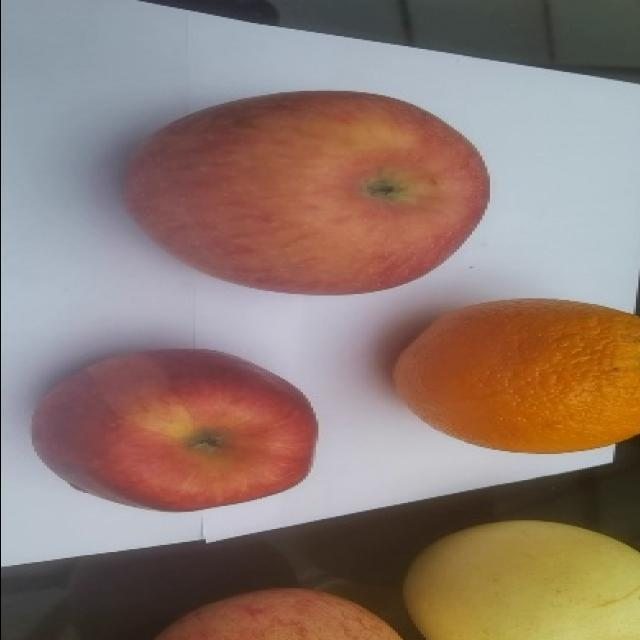Apple: (120, 90, 493, 300), (29, 341, 316, 520), (152, 582, 401, 640)
Orange: (398, 297, 640, 458)
